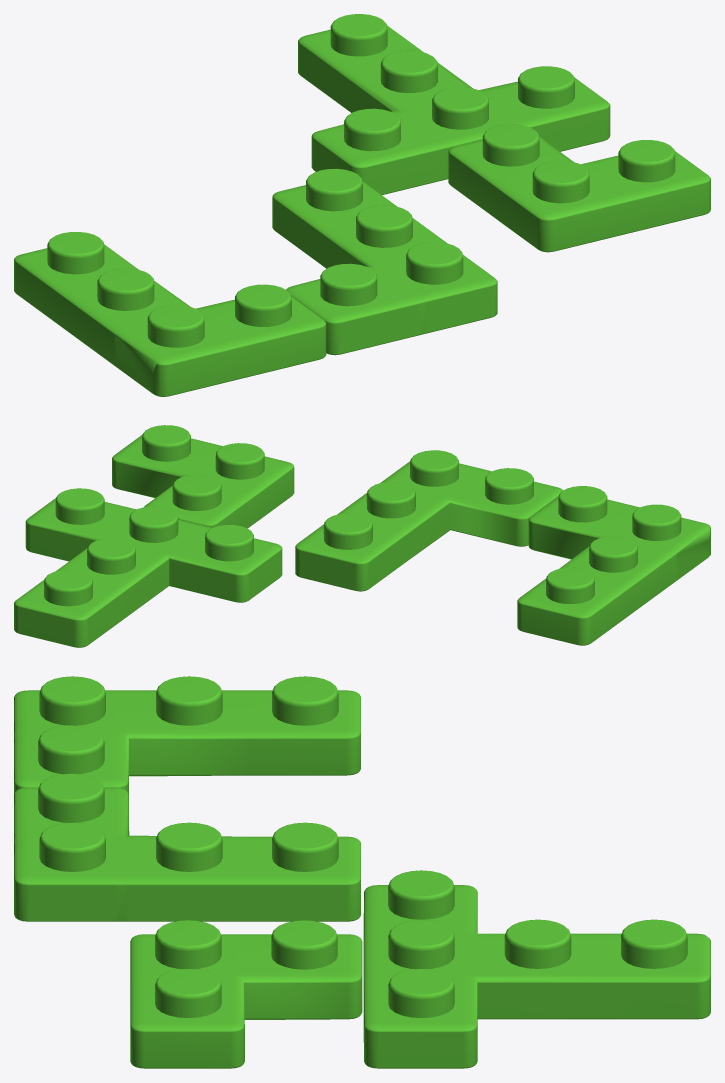
Rendered from Lblock_flipped_small_L_small T.fbx.
The picture shows the model from 3 angles, top to bottom: view 1: azimuth 30°, elevation 25°; view 2: azimuth 150°, elevation 25°; view 3: azimuth 270°, elevation 25°; orthographic projection. The views are drawn at different scales.
Parts seen in each view (by area): view 1: T Block_small, L Block 1x3_, L Block 1x3_Flipped, Small_L_block; view 2: T Block_small, L Block 1x3_, L Block 1x3_Flipped, Small_L_block; view 3: T Block_small, L Block 1x3_Flipped, L Block 1x3_, Small_L_block.
Part boxes in pixels (x1,y1,x2,y2): T Block_small: (298,14,610,194); L Block 1x3_: (14,232,326,396); L Block 1x3_Flipped: (272,168,497,355); Small_L_block: (448,124,710,252); T Block_small: (14,488,282,647); L Block 1x3_: (517,486,710,645); L Block 1x3_Flipped: (295,450,562,591); Small_L_block: (112,425,294,528); T Block_small: (363,870,710,1068); L Block 1x3_Flipped: (14,773,360,921); L Block 1x3_: (14,676,360,793); Small_L_block: (130,920,362,1068).
Size of the model in its own units: 398 by 35.68 by 341.
